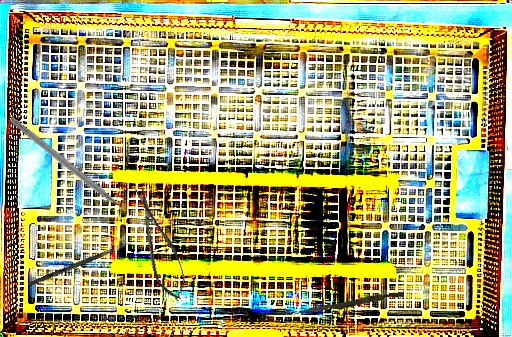Hook Surgical: (7, 115, 133, 220), (27, 239, 133, 288)
Micro Scissor: (128, 182, 191, 304)
Pusher: (293, 288, 405, 320)
